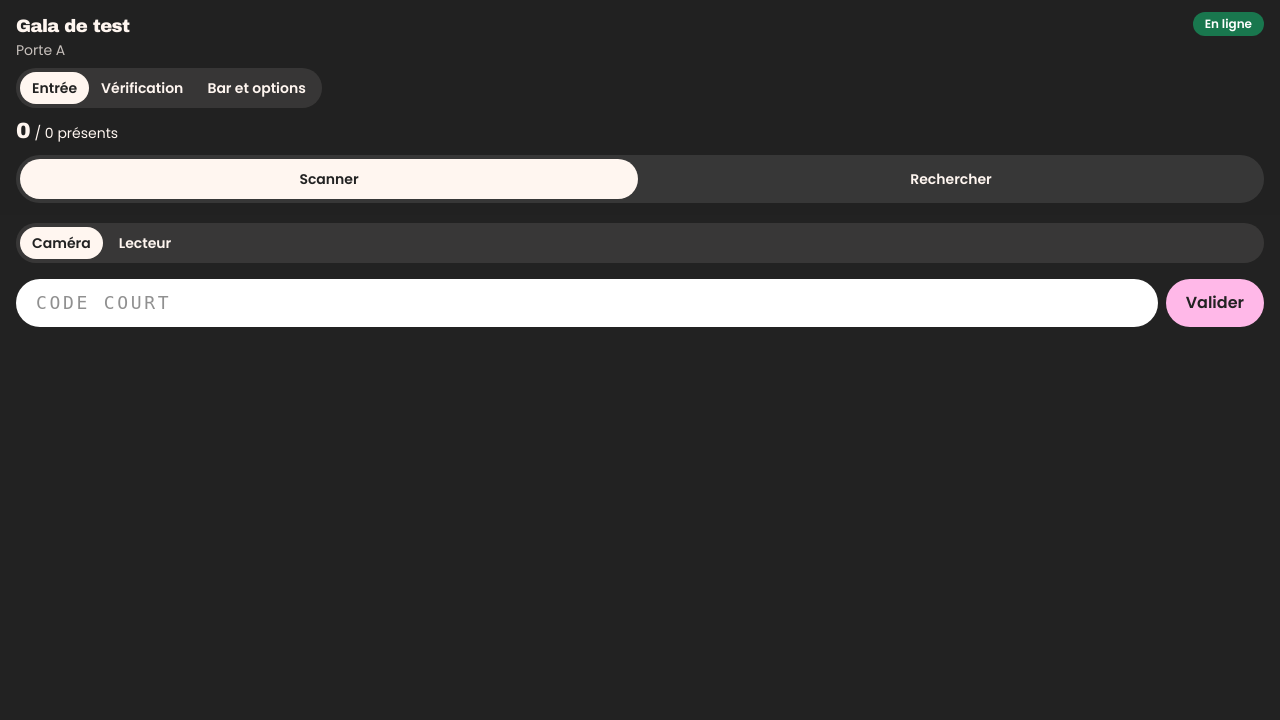
application du scanner : chaque mode appelle le bon service › vérification : le billet est contrôlé sans être validé, jamais au bar
expect the text "Gala de test" is shown: met, box [16,16,130,36]
Step 1. Click the button "Vérification" → (142, 88), box [89,72,195,104]
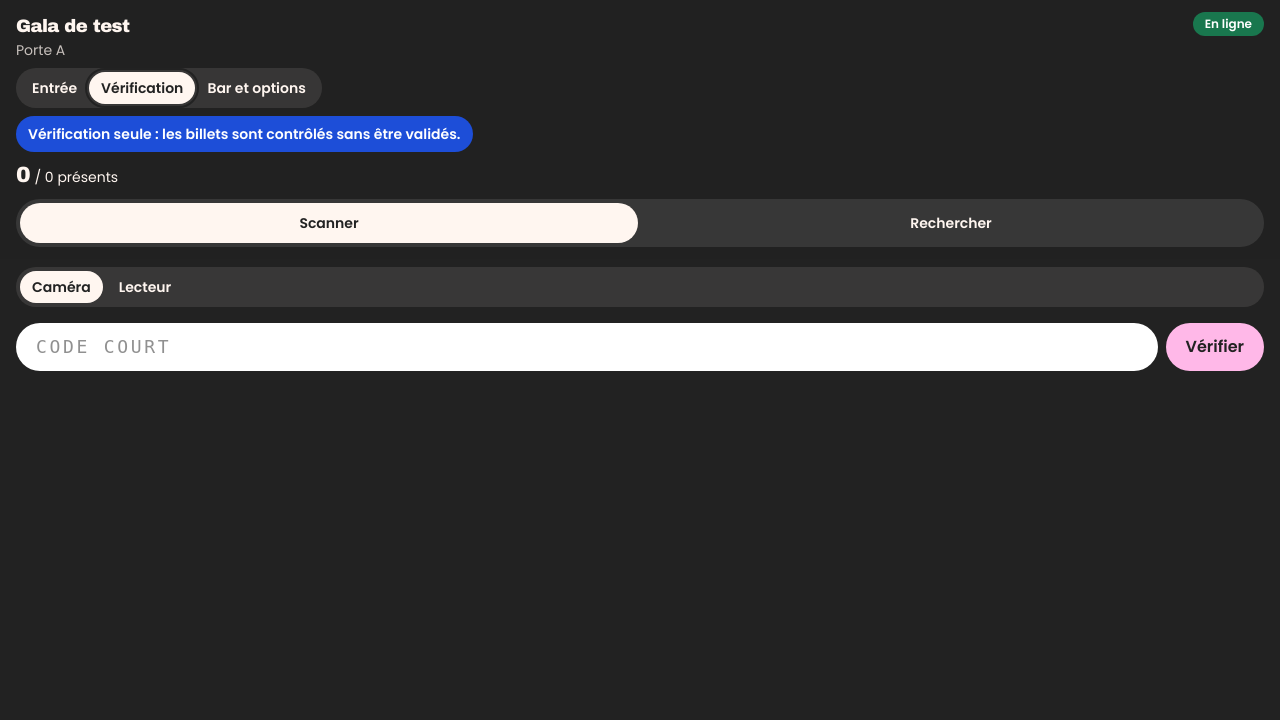
expect the button "Vérifier" is shown: met, box [1166,323,1264,371]
Step 2. Type "ABC123" into the field with placeholder "Code court" → (587, 347), box [16,323,1158,371]
Then press Enter
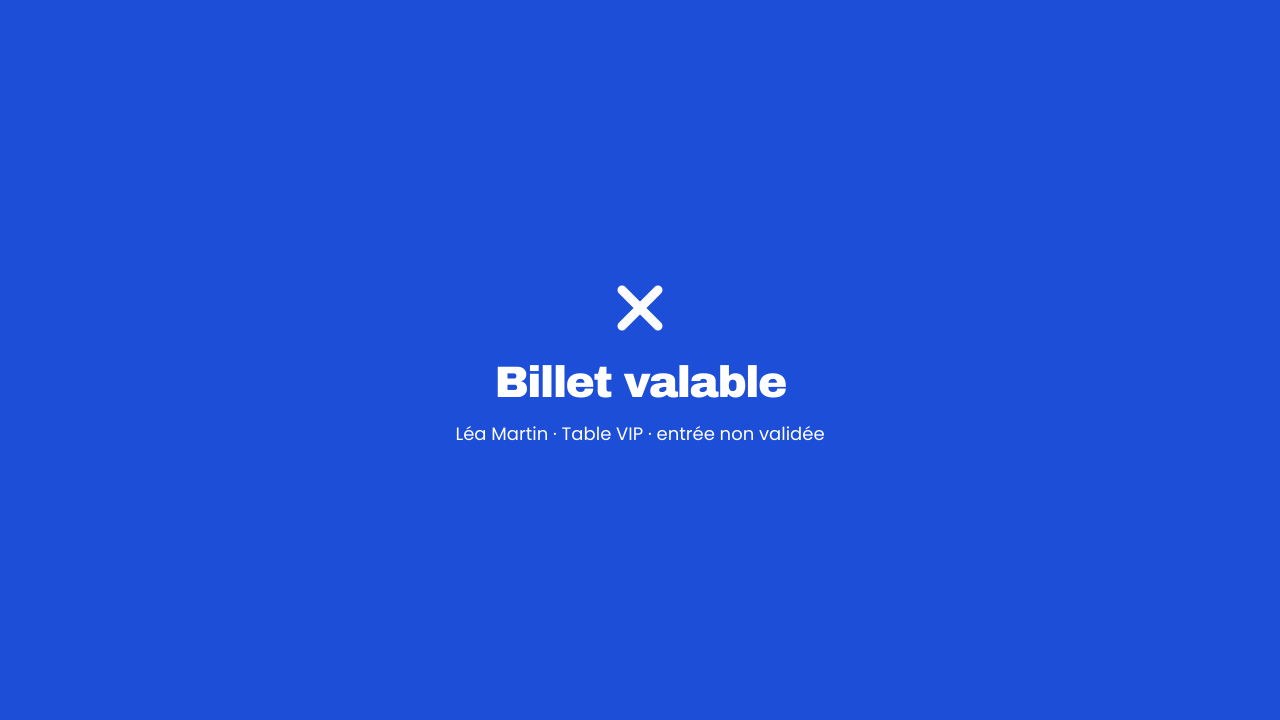
expect the text "Billet valable" is shown: met, box [494,358,786,406]
